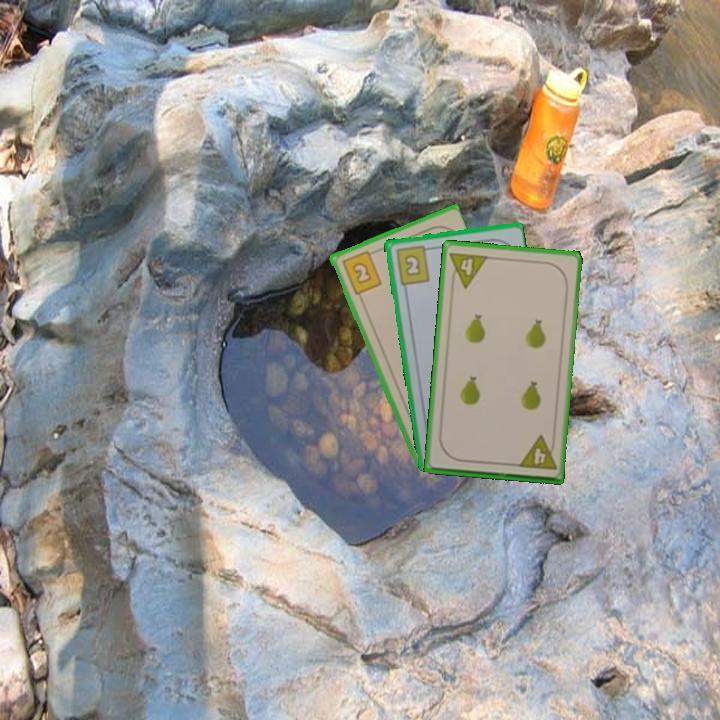2b: (338, 247, 384, 297), (392, 241, 434, 287)
4p: (446, 248, 491, 291), (515, 432, 559, 473)
